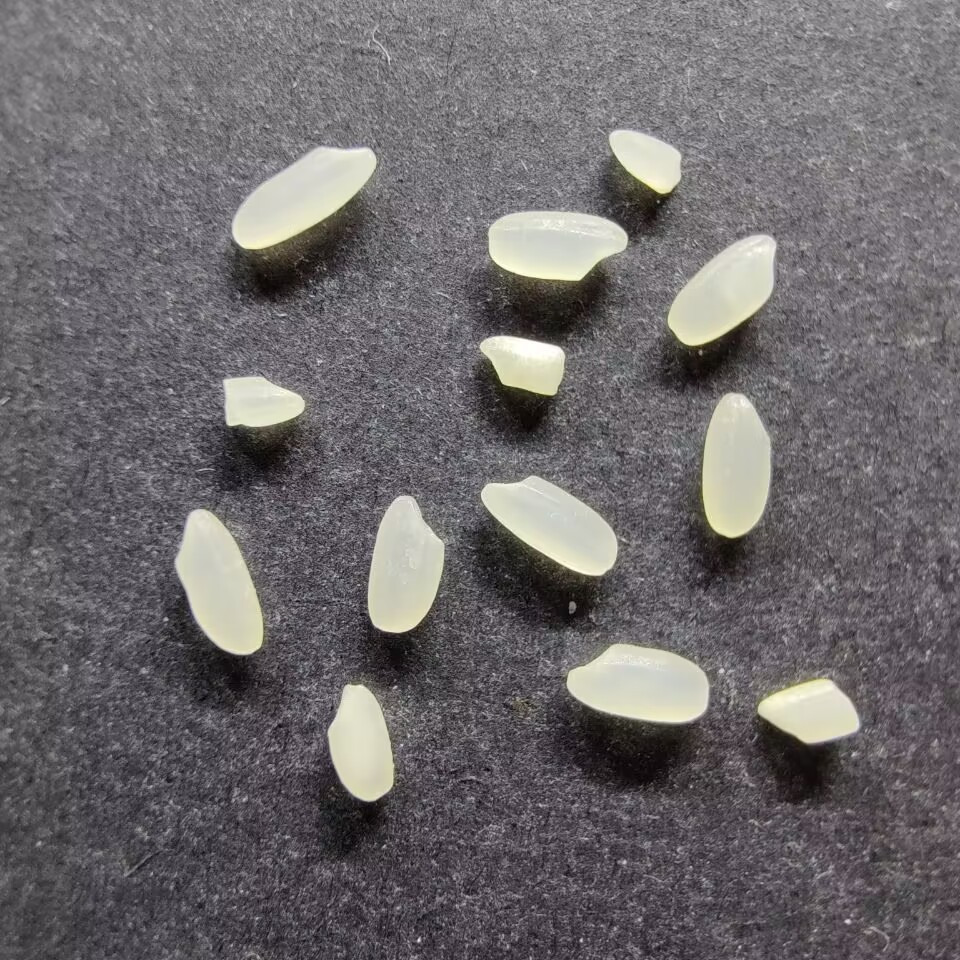broken: (756, 678, 859, 745), (478, 335, 565, 396), (608, 128, 682, 194), (222, 375, 304, 427)
rice: (231, 145, 377, 249), (480, 474, 618, 577), (174, 508, 263, 656), (666, 233, 777, 346), (565, 643, 709, 724), (366, 494, 444, 633), (700, 392, 771, 537), (487, 210, 628, 281), (326, 683, 394, 803)
